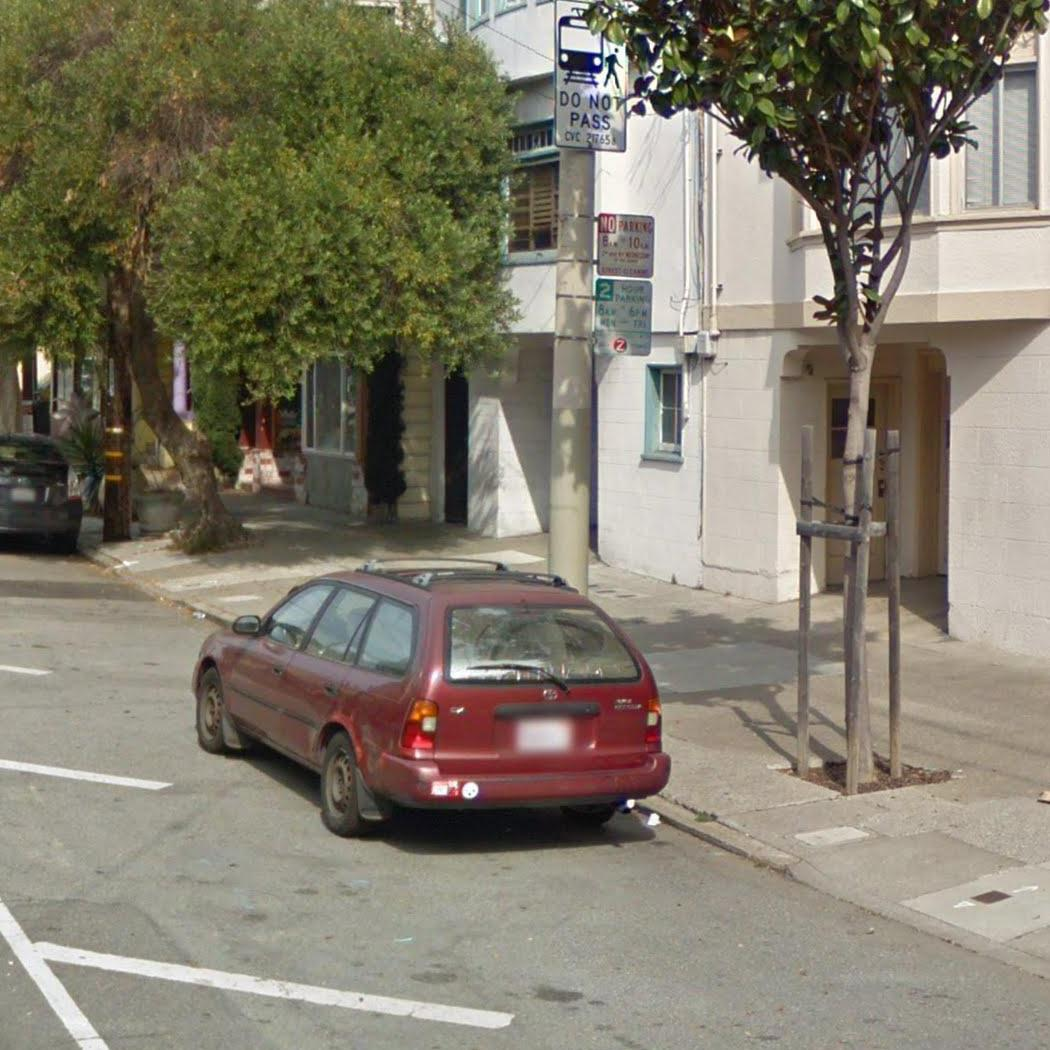2 Hour Parking: (591, 276, 657, 359)
No Parking: (595, 211, 658, 279)
